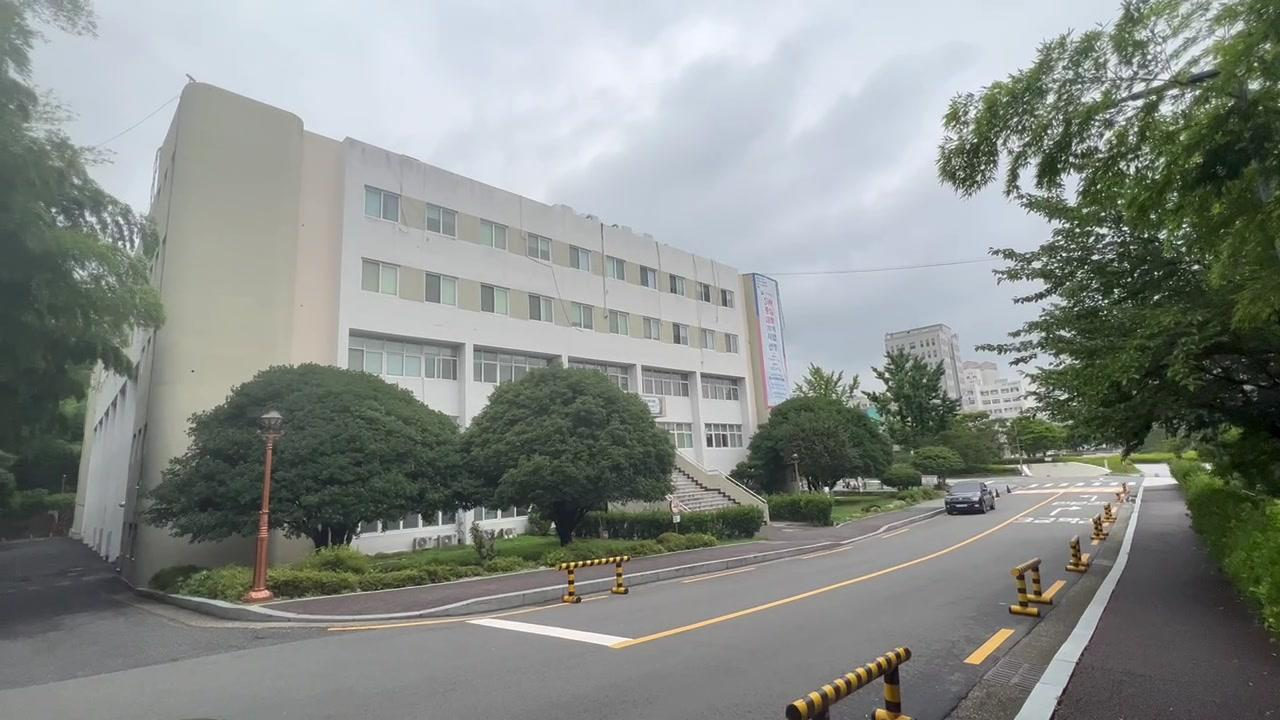building: (131, 79, 750, 366)
